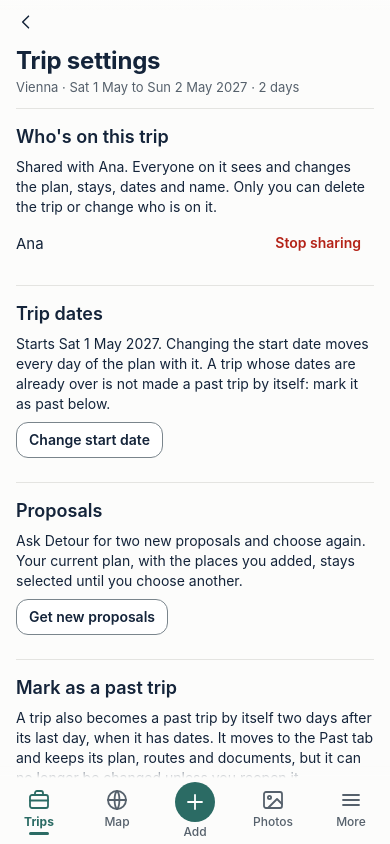
Test: the owner stops sharing after confirming
Click the button "Stop sharing" at (318, 243), box [262,225,374,261]
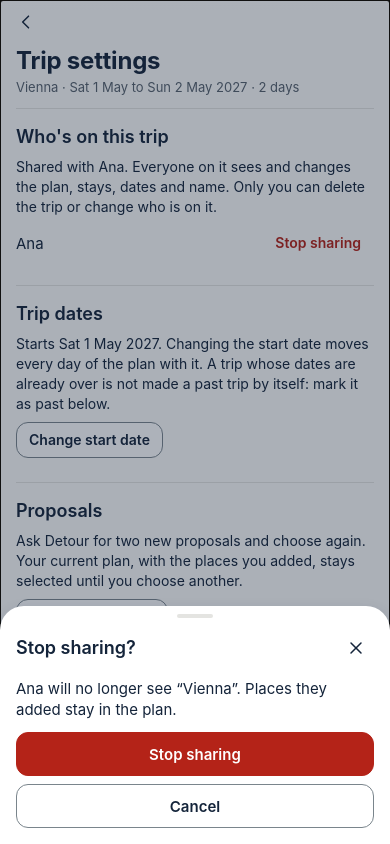
Click the button with test id "confirm-unshare" at (195, 754), box [16,732,374,776]
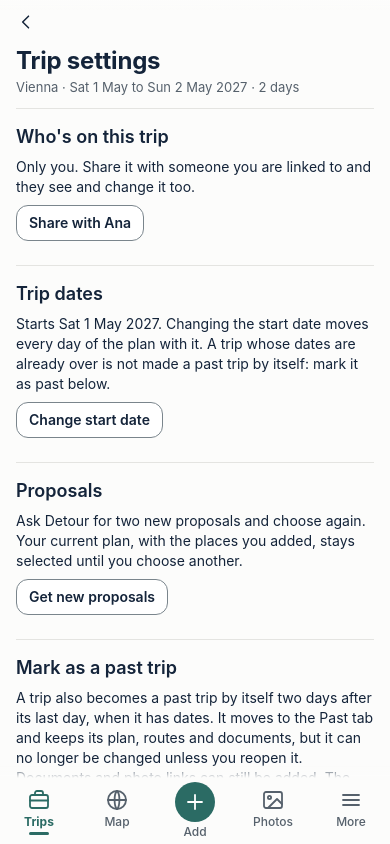
Expected: the text "Only you. Share it" is shown, [16,158,375,195]
